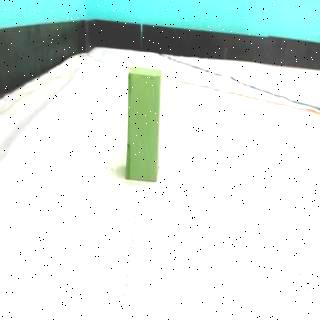greenbox: (127, 66, 164, 182)
